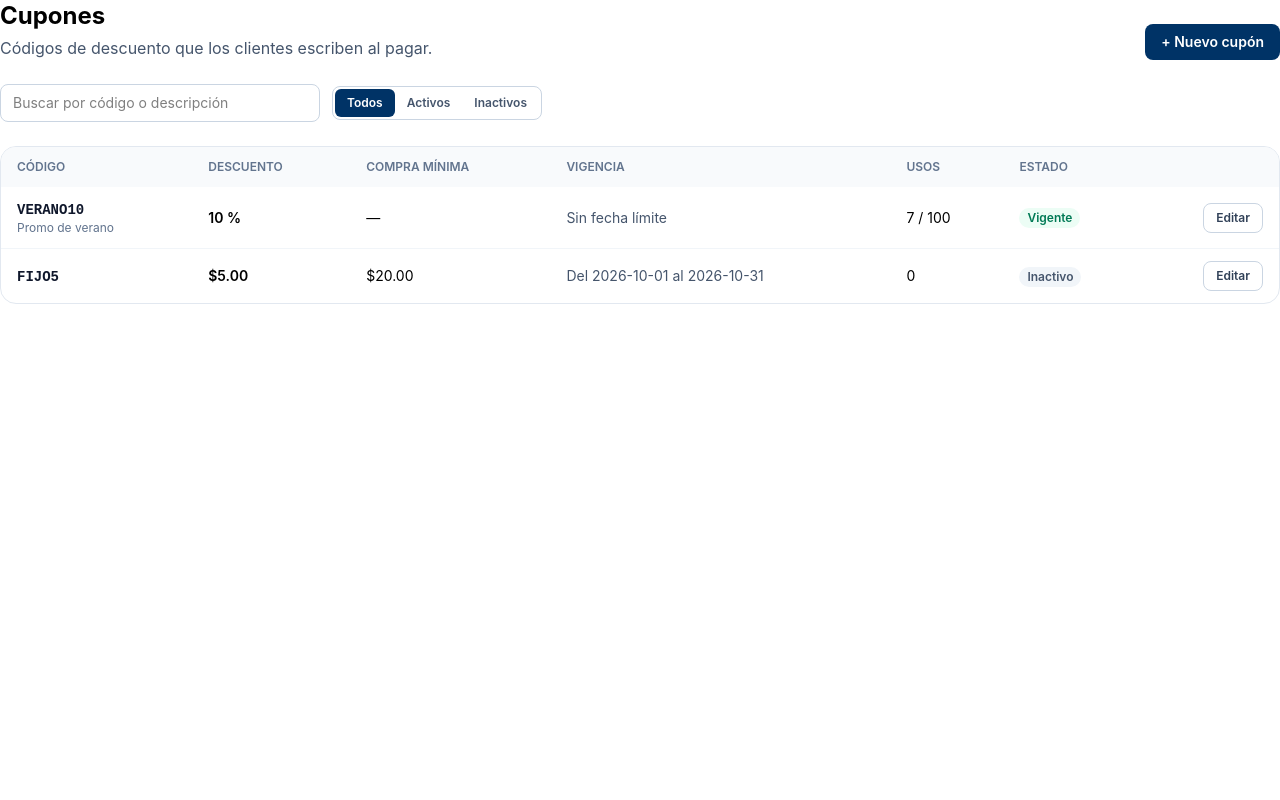
Test: Cupones: crear y editar › valida antes de enviar
The width and height of the screenshot is (1280, 800).
expect the text "VERANO10" is shown: met, box x1=17 y1=202 x2=84 y2=218
Click the button "+ Nuevo cupón": x=1213, y=42 x1=1145 y1=24 x2=1279 y2=60
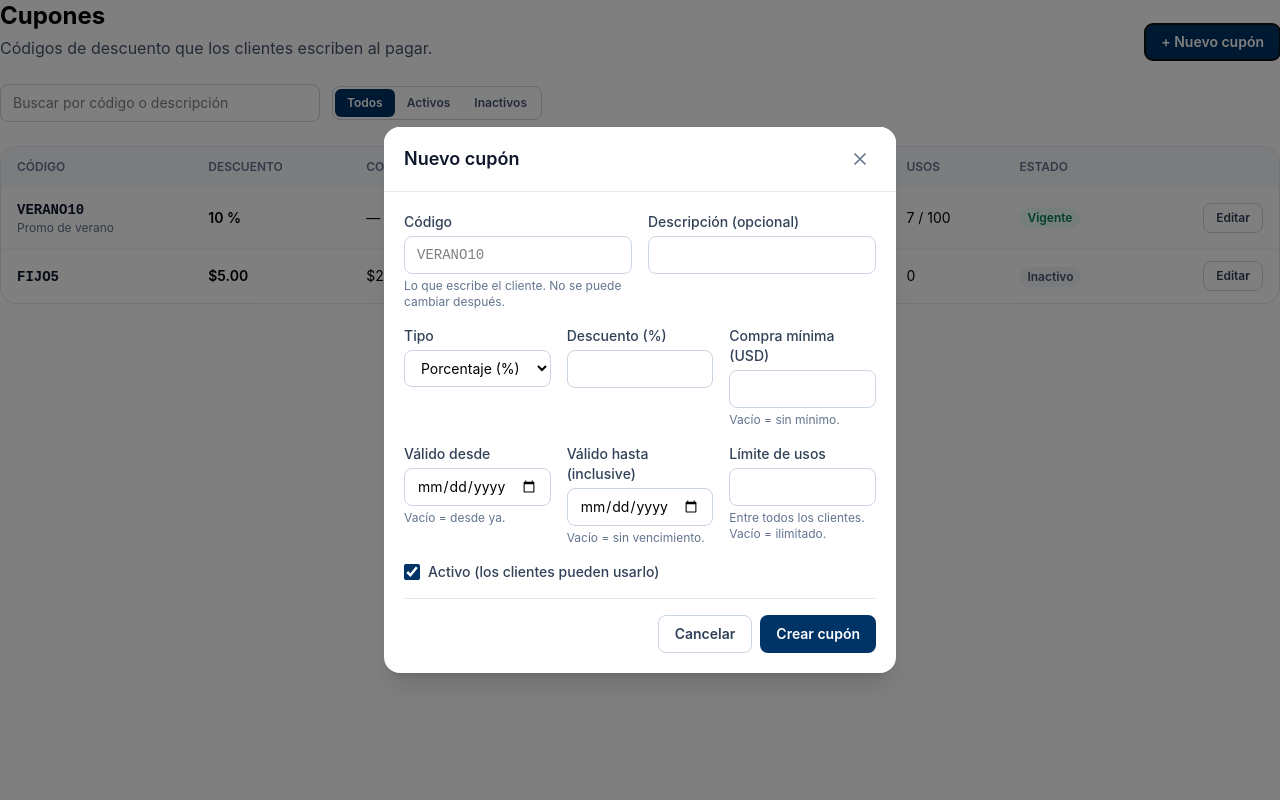
In the field labelled "Código": x=518, y=255 x1=404 y1=236 x2=632 y2=274, type "X"
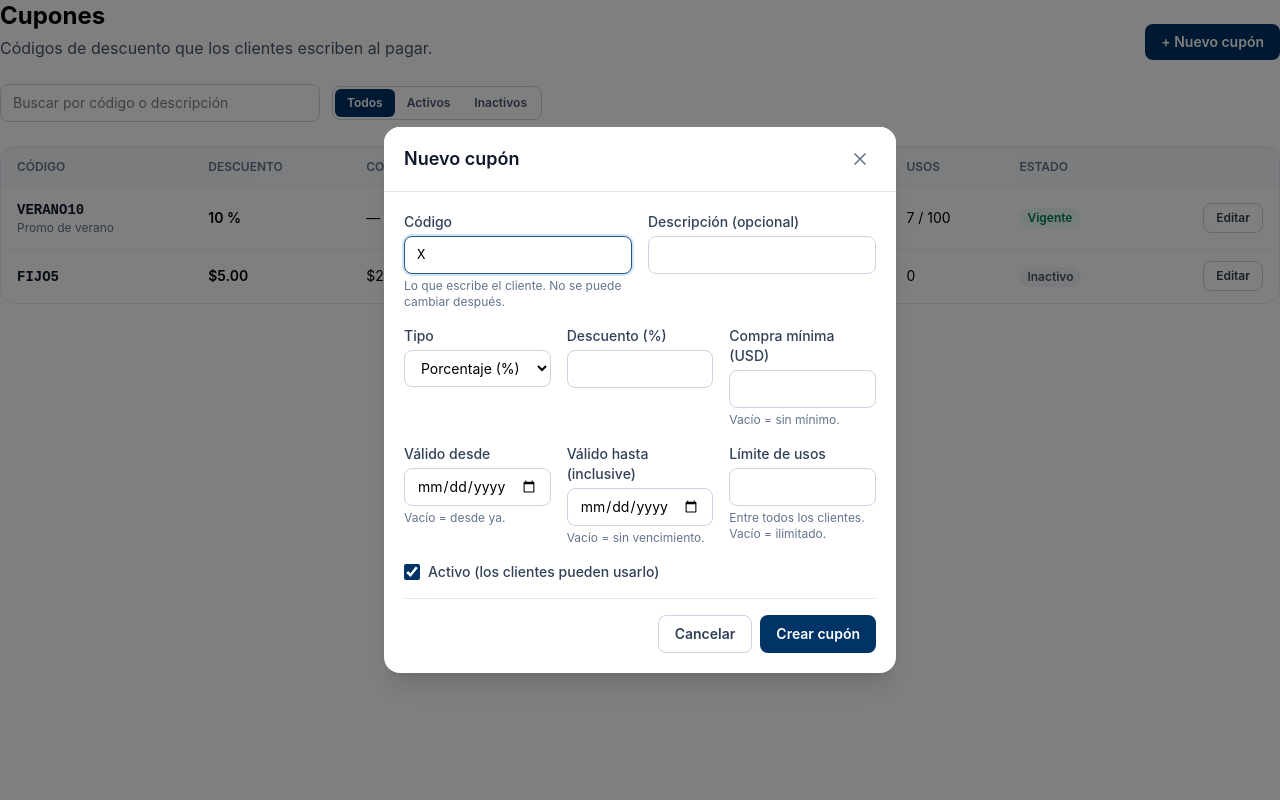
In the number field labelled "Descuento (%)": x=640, y=369 x1=567 y1=350 x2=713 y2=388, type "150"
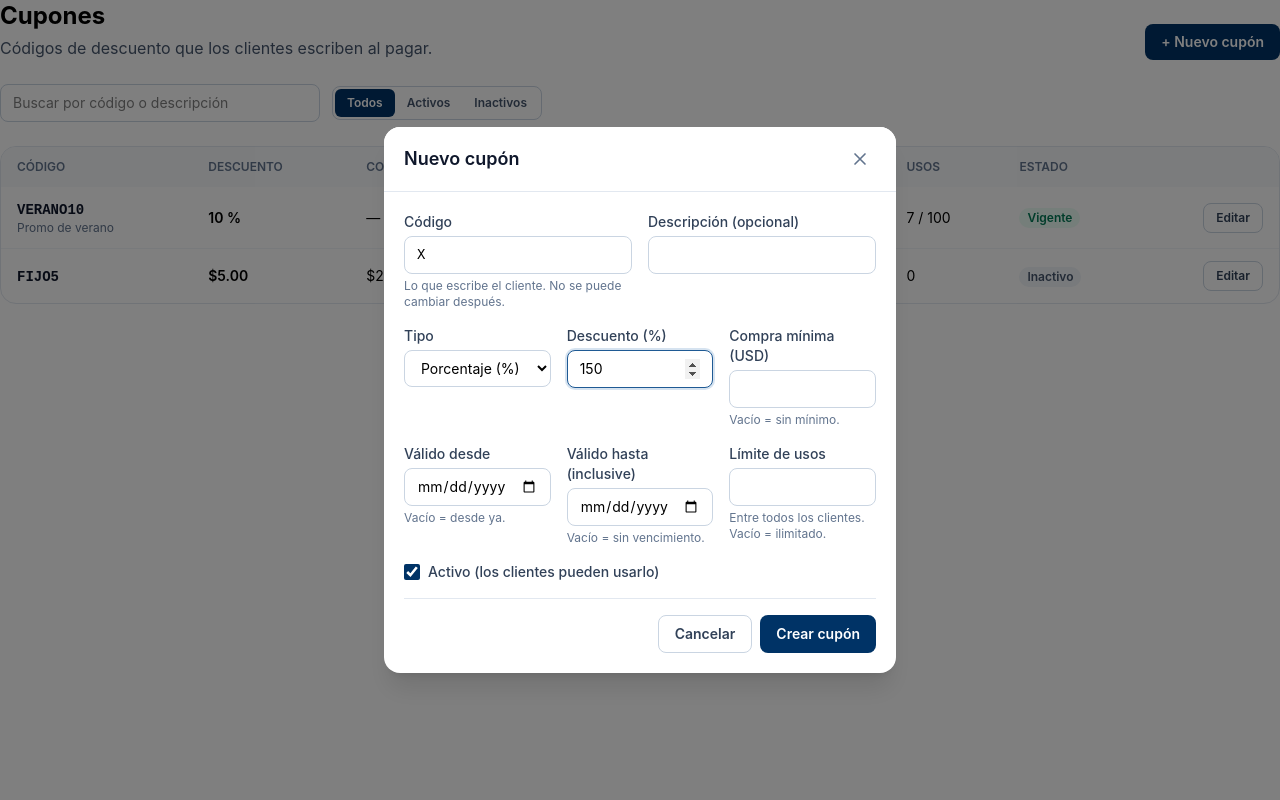
Click the button "Crear cupón": x=818, y=634 x1=760 y1=615 x2=876 y2=653
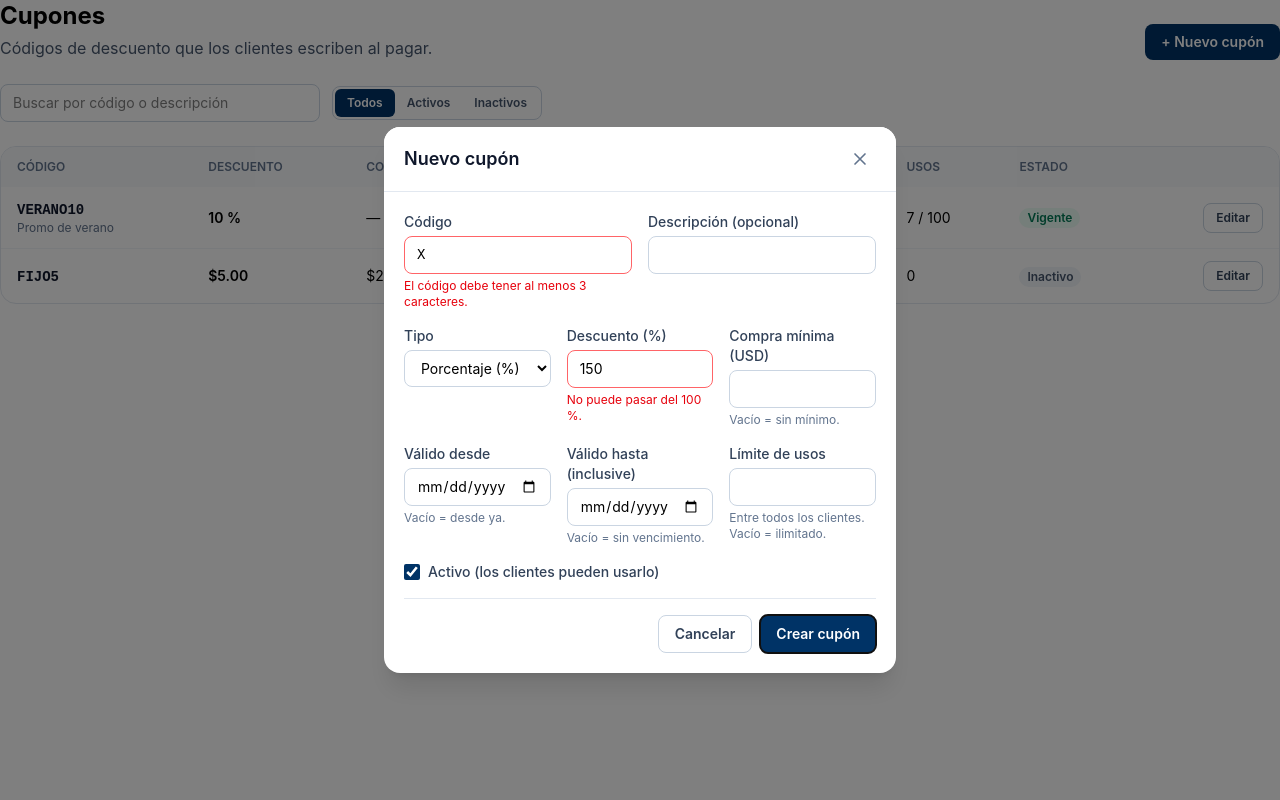
expect the text "El código debe tener al menos 3 caracteres." is shown: met, box x1=404 y1=278 x2=586 y2=309
expect the text "No puede pasar del 100 %." is shown: met, box x1=567 y1=392 x2=713 y2=424
